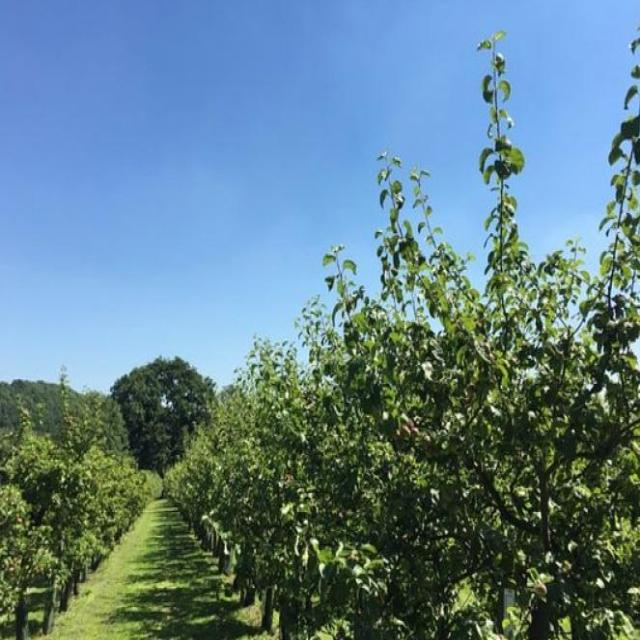row: (48, 495, 270, 640)
